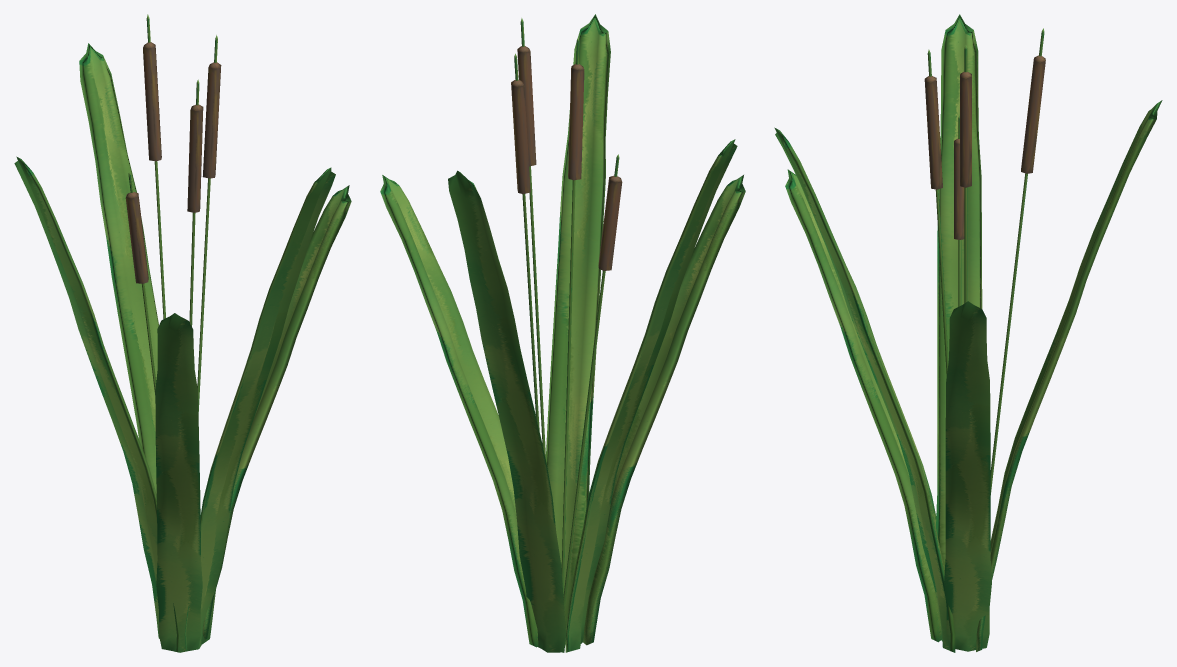
Rendered from Cattail.fbx.
The picture shows the model from 3 angles, left to right: view 1: azimuth 30°, elevation 25°; view 2: azimuth 150°, elevation 25°; view 3: azimuth 270°, elevation 25°; orthographic projection. The views are drawn at different scales.
Parts seen in each view (by area): view 1: Leaf_03, Leaf_01, Leaf_04, Leaf_02, BrownBit_01 (×4), Leaf_05, Stem_01 (×2); view 2: Leaf_04, Leaf_01, Leaf_02, Leaf_05, Leaf_03, BrownBit_01 (×4), Stem_01 (×4); view 3: Leaf_05, Leaf_02, Leaf_03, Leaf_04, Leaf_01, BrownBit_01 (×4), Stem_01 (×3).
Boxes of the visible parts, box(x1,y1,x2,y2) form: Leaf_03: box(155, 313, 202, 652); Leaf_01: box(79, 43, 158, 493); Leaf_04: box(184, 167, 335, 650); Leaf_02: box(14, 156, 178, 651); BrownBit_01 (×4): box(125, 42, 221, 283); Leaf_05: box(202, 185, 351, 639); Stem_01 (×2): box(146, 14, 217, 411); Leaf_04: box(546, 14, 610, 627); Leaf_01: box(448, 170, 566, 652); Leaf_02: box(565, 139, 737, 652); Leaf_05: box(380, 175, 538, 647); Leaf_03: box(583, 175, 745, 645); BrownBit_01 (×4): box(511, 46, 622, 270); Stem_01 (×4): box(514, 18, 619, 610); Leaf_05: box(944, 301, 991, 651); Leaf_02: box(936, 14, 982, 569); Leaf_03: box(785, 169, 941, 642); Leaf_04: box(774, 127, 955, 652); Leaf_01: box(976, 100, 1162, 651); BrownBit_01 (×4): box(924, 55, 1045, 239); Stem_01 (×3): box(927, 28, 1044, 494).
Bounding box in the file's own units: 9.77 × 16.63 × 9.45.
